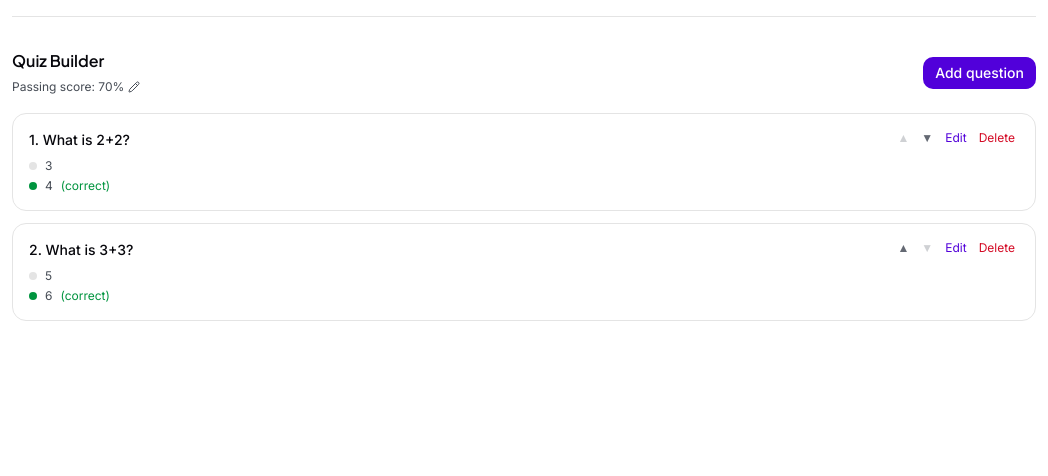
QuizBuilder › shows edit form when Edit button is clicked
Step 1. Click the button with aria-label "edit question 1" → (956, 138), box [941,130,971,146]
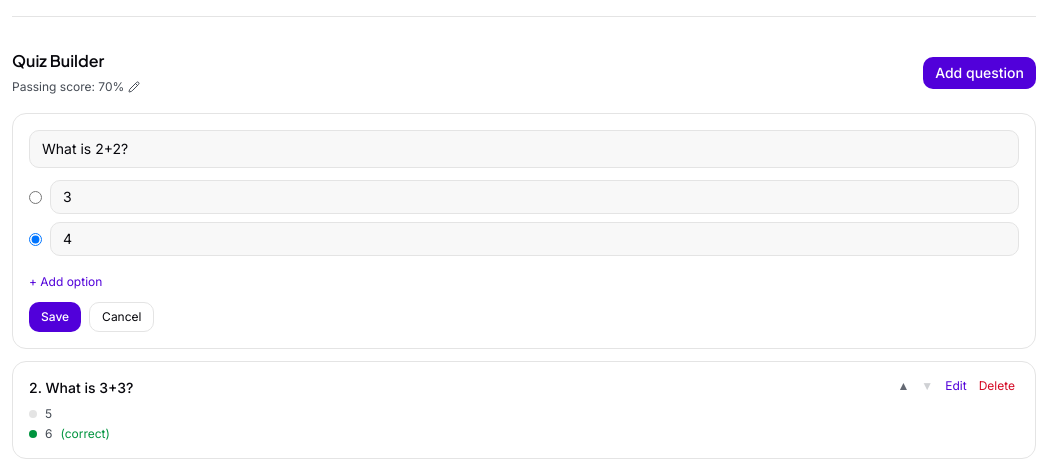
Expected: the field named "edit question text" is shown, [29,130,1019,168]
